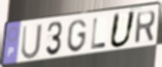3: (45, 20, 64, 57)
G: (66, 18, 88, 54)
L: (90, 17, 107, 51)
R: (134, 10, 157, 45)
U: (108, 10, 137, 50), (20, 23, 44, 61)
